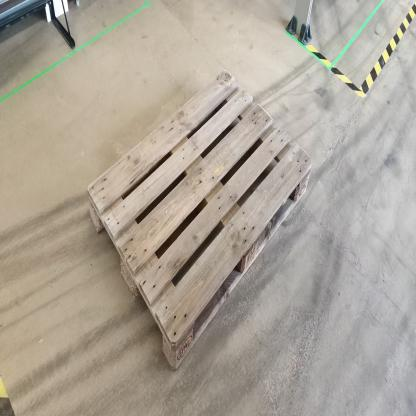BoxFace: (84, 64, 313, 378)
